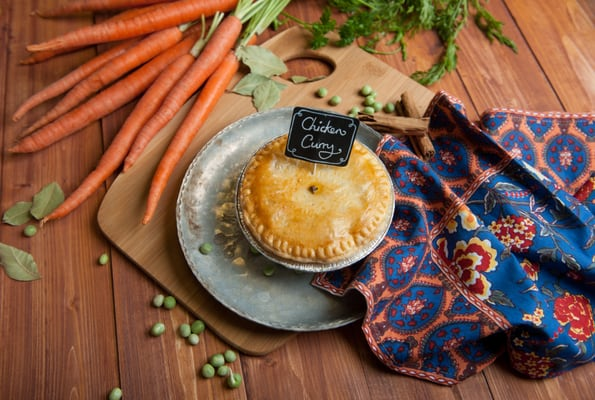curry: (2, 2, 594, 384)
